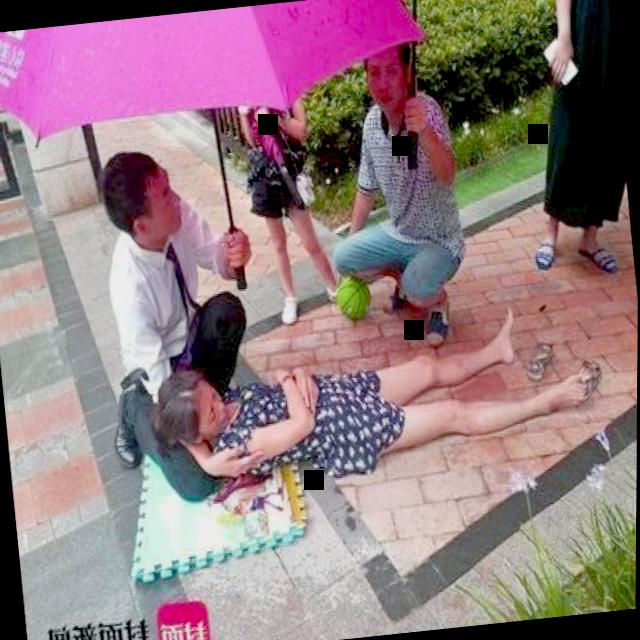Fall-Detected: (130, 294, 631, 502)
